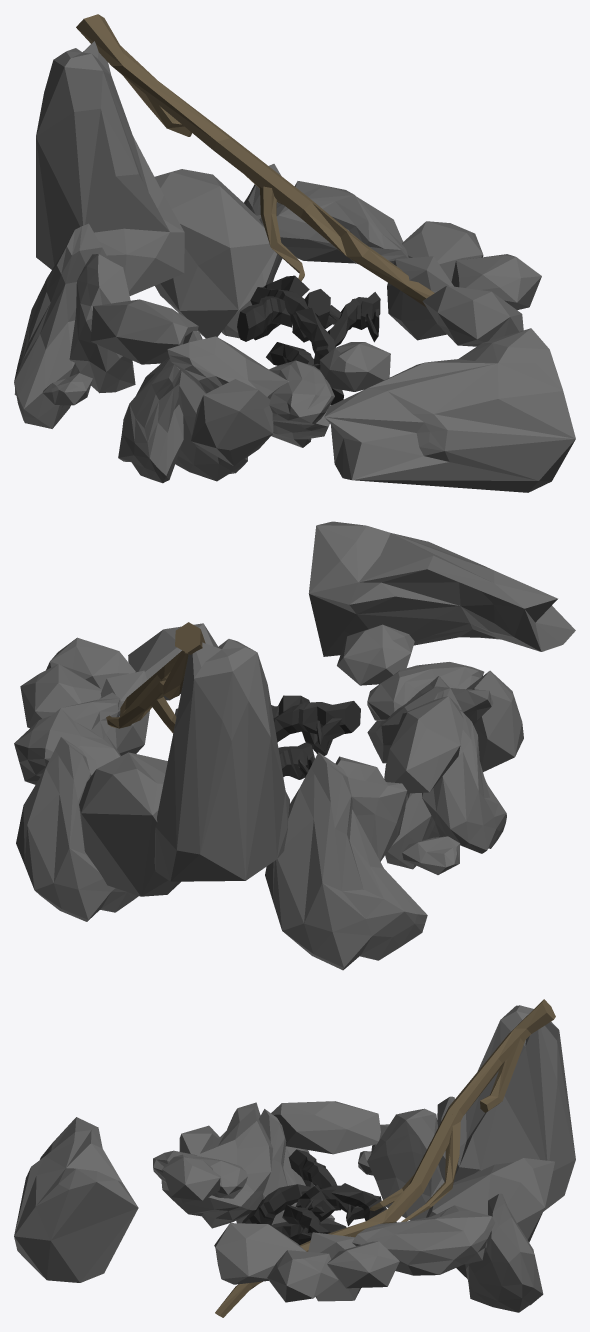
File: Fire_desert.fbx
3 renders of one model, top to bottom at view 1: azimuth 30°, elevation 25°; view 2: azimuth 150°, elevation 25°; view 3: azimuth 270°, elevation 25°, orthographic. The views are drawn at different scales.
Visible parts, largest first — view 1: Icosphere_022, Icosphere_023, Icosphere_005, NurbsPath_005, Icosphere_017, Icosphere_007, Icosphere_025, Icosphere_014, Icosphere_019, Icosphere_020, Icosphere_015, Icosphere_021 (+15 smaller); view 2: Icosphere_023, Icosphere_022, Icosphere_017, Icosphere_026, Icosphere_005, Icosphere_025, Icosphere_015, Icosphere_007, Icosphere_014, NurbsPath_005, Icosphere_001, Icosphere_019 (+11 smaller); view 3: Icosphere_022, Icosphere_023, NurbsPath_005, Icosphere_007, Icosphere_026, Icosphere_020, Icosphere_005, Icosphere_014, Icosphere_015, Icosphere_021, Icosphere_010, Icosphere (+12 smaller).
Boxes of the visible parts, x1,y1,x2,y2 form: Icosphere_022: [324, 328, 575, 492]; Icosphere_023: [36, 41, 184, 295]; Icosphere_005: [154, 169, 274, 338]; NurbsPath_005: [76, 14, 434, 307]; Icosphere_017: [14, 223, 108, 428]; Icosphere_007: [259, 181, 408, 264]; Icosphere_025: [118, 357, 183, 483]; Icosphere_014: [69, 254, 135, 393]; Icosphere_019: [191, 379, 273, 466]; Icosphere_020: [167, 336, 331, 447]; Icosphere_015: [90, 299, 198, 364]; Icosphere_021: [422, 285, 523, 346]; Icosphere_023: [154, 639, 289, 881]; Icosphere_022: [308, 521, 575, 656]; Icosphere_017: [265, 752, 427, 970]; Icosphere_026: [16, 737, 138, 921]; Icosphere_005: [79, 752, 180, 896]; Icosphere_025: [422, 711, 506, 853]; Icosphere_015: [384, 696, 463, 793]; Icosphere_007: [14, 692, 122, 784]; Icosphere_014: [335, 756, 407, 861]; NurbsPath_005: [106, 622, 205, 733]; Icosphere_001: [337, 624, 414, 685]; Icosphere_019: [466, 670, 523, 771]; Icosphere_022: [14, 1117, 138, 1282]; Icosphere_023: [453, 1005, 575, 1211]; NurbsPath_005: [215, 999, 555, 1317]; Icosphere_007: [352, 1205, 495, 1275]; Icosphere_026: [466, 1193, 543, 1312]; Icosphere_020: [161, 1102, 272, 1228]; Icosphere_005: [426, 1158, 554, 1278]; Icosphere_014: [367, 1108, 444, 1220]; Icosphere_015: [271, 1101, 380, 1154]; Icosphere_021: [214, 1223, 305, 1284]; Icosphere_010: [267, 1250, 338, 1302]; Icosphere: [327, 1241, 399, 1288].
Size of the model in its own units: 110 by 79.7 by 151.
